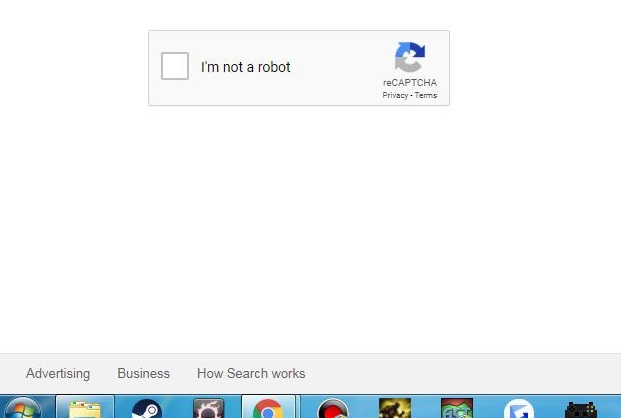captcha: (161, 52, 294, 80)
